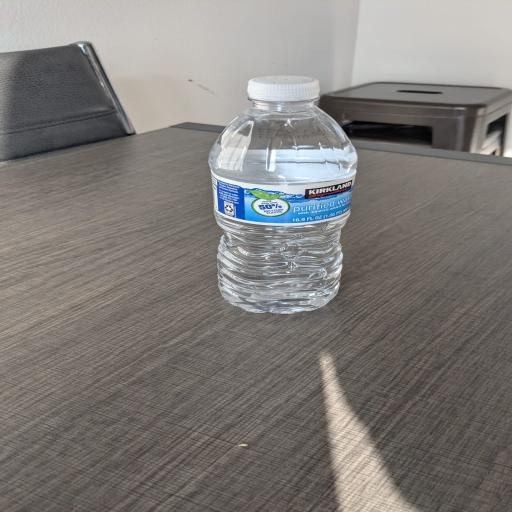waterbottle: (210, 76, 357, 313)
